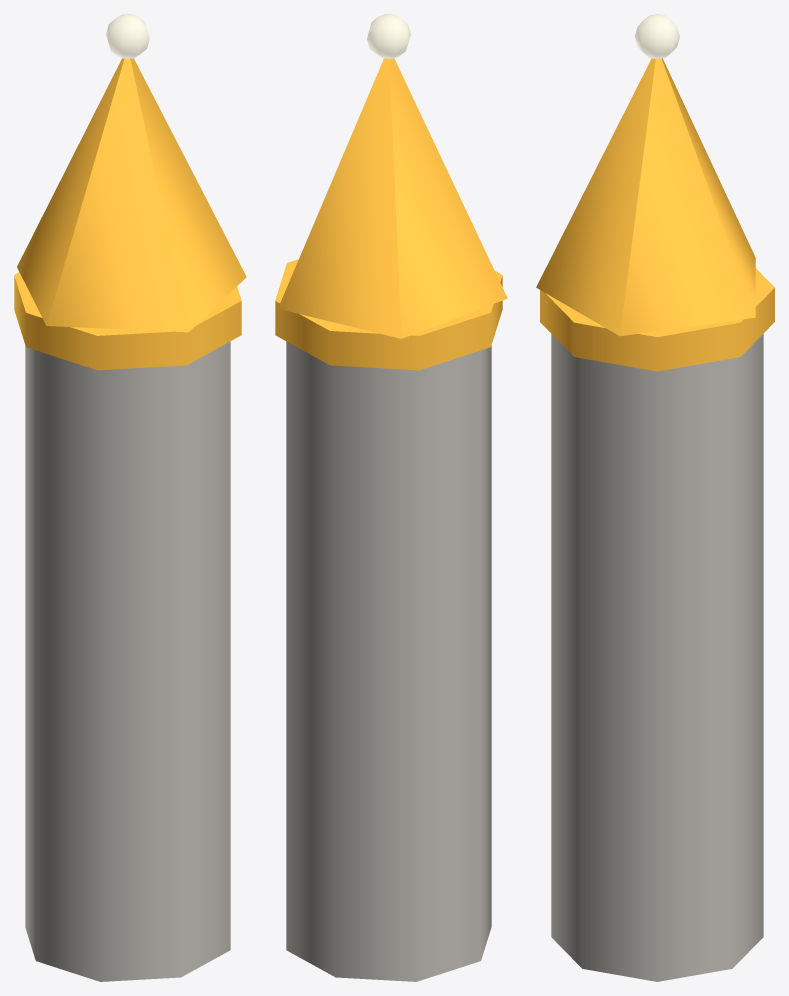
The model's file is golden-tower.glb.
3 renders of one model, left to right at view 1: azimuth 30°, elevation 25°; view 2: azimuth 150°, elevation 25°; view 3: azimuth 270°, elevation 25°, orthographic.
Parts seen in each view (by area): view 1: kingdom golden-tower; view 2: kingdom golden-tower; view 3: kingdom golden-tower.
Boxes of the visible parts, x1=… form: kingdom golden-tower: x1=14, y1=14, x2=246, y2=981; kingdom golden-tower: x1=275, y1=14, x2=507, y2=981; kingdom golden-tower: x1=536, y1=14, x2=774, y2=981.
Size of the model in its own units: 3.1 by 13.4 by 3.15.
